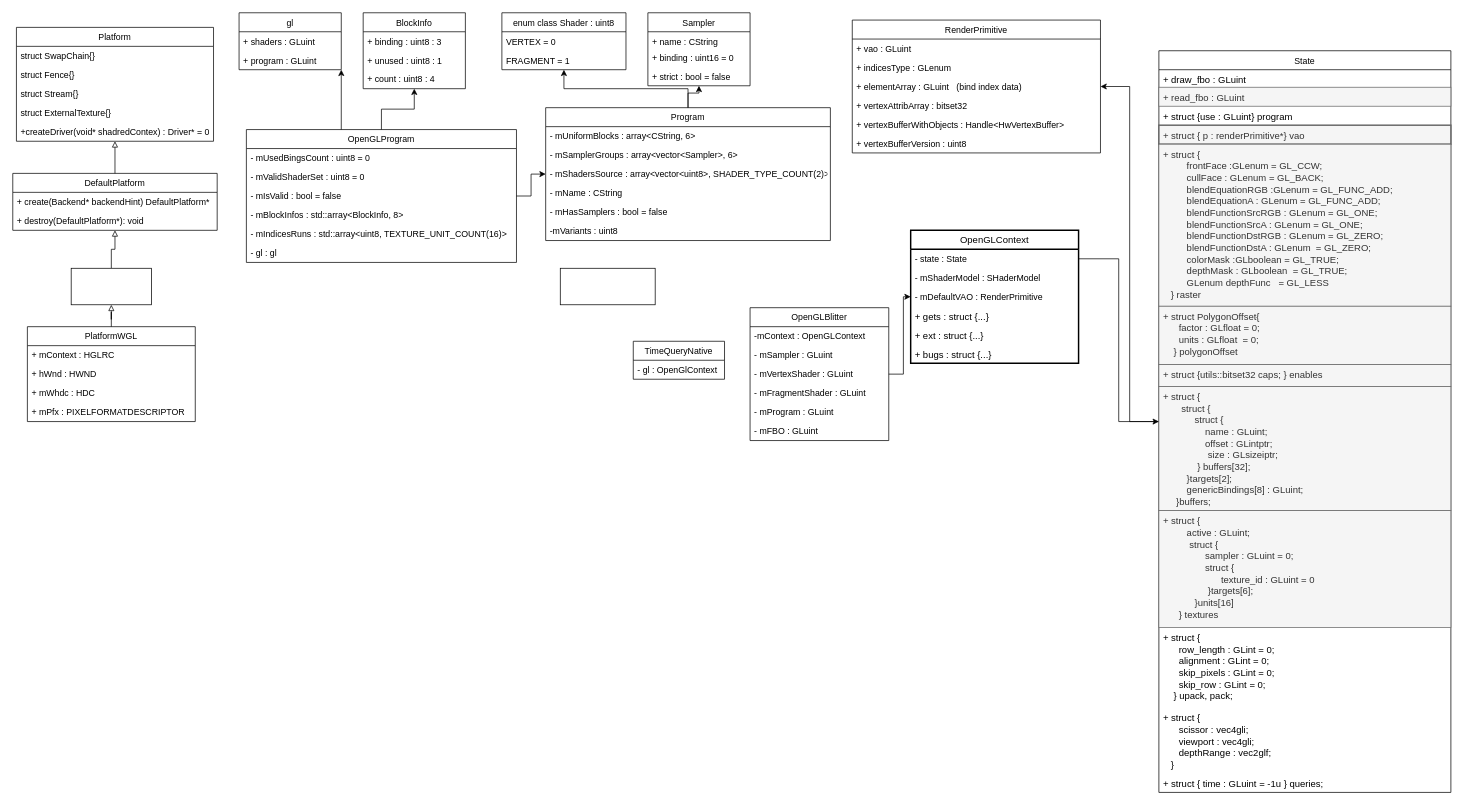
The diagram is 1464 pixels wide and 807 high, and some of its shapes have lost their labels. The centre of each missing label's shape, as x and y in pixels:
«interface» OpenGLPlatform: the point at 110,286
«interface» TimeQueryInterface: the point at 607,286
